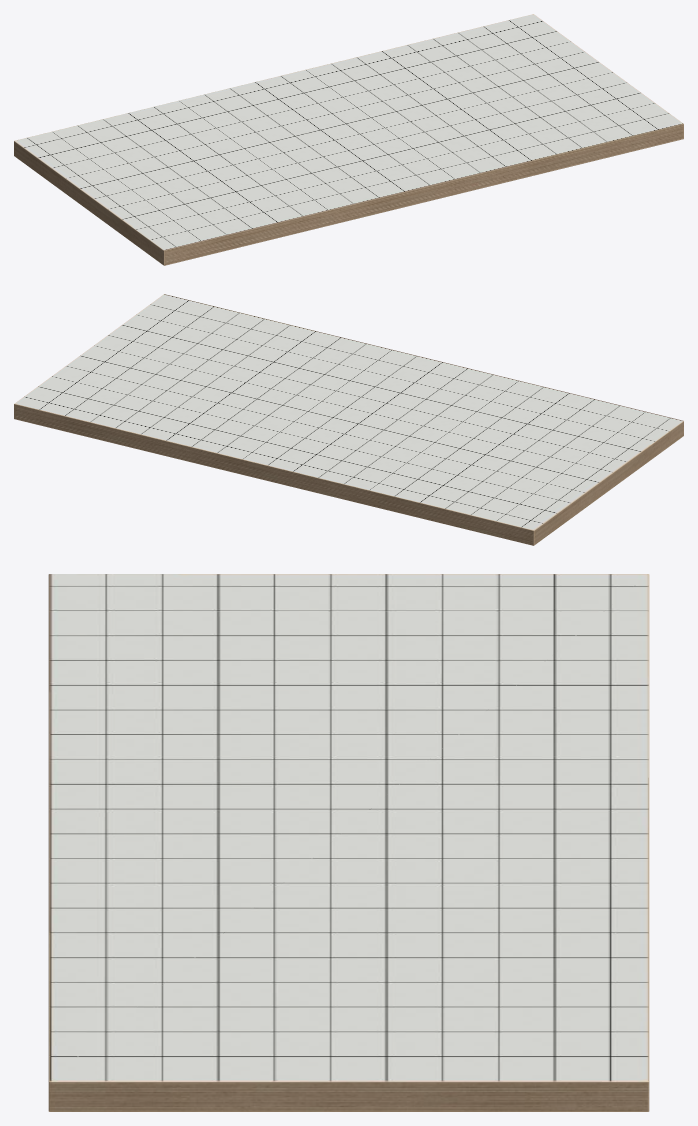
File: LAGKAPTEN_30558030.glb
3 renders of one model, top to bottom at view 1: azimuth 30°, elevation 25°; view 2: azimuth 150°, elevation 25°; view 3: azimuth 270°, elevation 25°, orthographic. The views are drawn at different scales.
Parts seen in each view (by area): view 1: model; view 2: model; view 3: model.
Boxes of the visible parts, x1=… form: model: x1=14, y1=14, x2=683, y2=265; model: x1=14, y1=294, x2=683, y2=545; model: x1=48, y1=574, x2=649, y2=1111.
Bounding box in the file's own units: 1.2 × 0.034 × 0.5999.
1 material, 1 textured.
